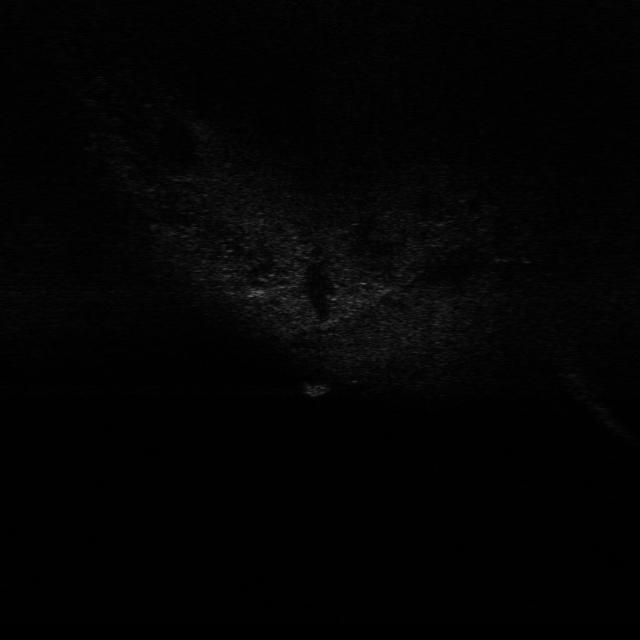cube: (302, 378, 331, 401)
